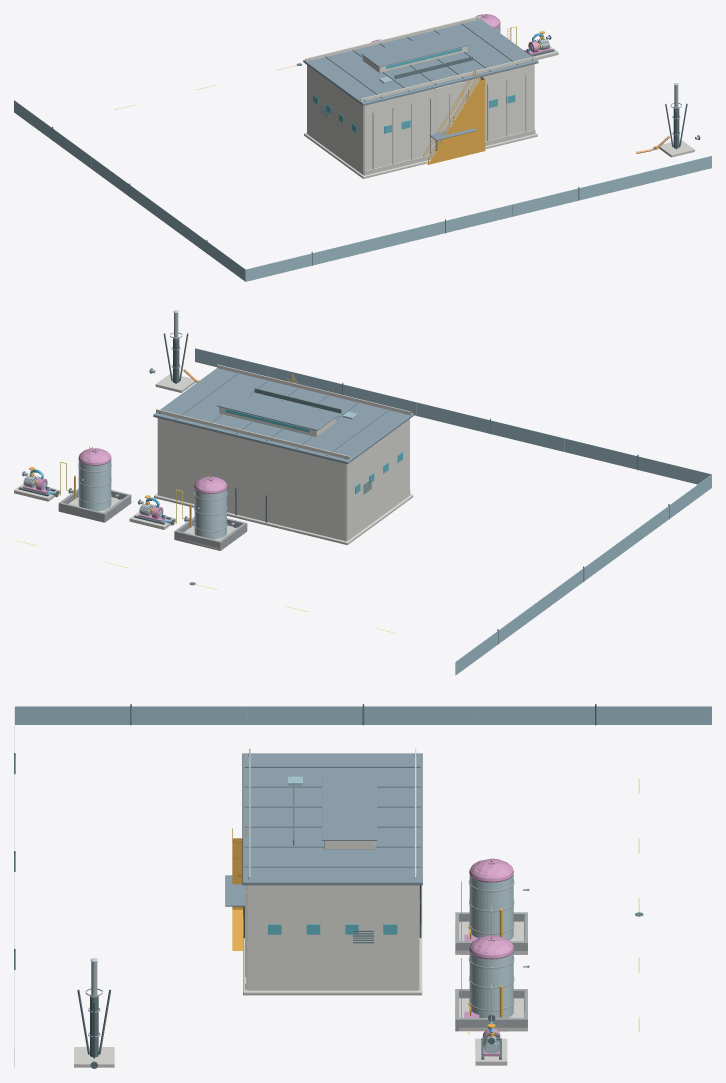
The picture shows the model from 3 angles, top to bottom: view 1: azimuth 30°, elevation 25°; view 2: azimuth 150°, elevation 25°; view 3: azimuth 270°, elevation 25°; orthographic projection. The views are drawn at different scales.
Parts seen in each view (by area): view 1: render-batch-13, render-batch-4, render-batch-5, render-batch-14, render-batch-10, render-batch-2, render-batch-3, render-batch-0; view 2: render-batch-13, render-batch-4, render-batch-5, render-batch-8, render-batch-10, render-batch-6, render-batch-9, render-batch-7, render-batch-0, render-batch-3; view 3: render-batch-4, render-batch-13, render-batch-5, render-batch-8, render-batch-10, render-batch-9, render-batch-6, render-batch-14, render-batch-0, render-batch-7, render-batch-3, render-batch-2.
Boxes of the visible parts, box(x1,y1,x2,y2) form: render-batch-13: box(305, 16, 535, 175); render-batch-4: box(303, 19, 538, 140); render-batch-5: box(14, 76, 711, 281); render-batch-14: box(423, 27, 657, 164); render-batch-10: box(304, 46, 694, 178); render-batch-2: box(313, 47, 515, 133); render-batch-3: box(52, 18, 579, 265); render-batch-0: box(485, 15, 700, 149); render-batch-13: box(156, 364, 411, 541); render-batch-4: box(153, 368, 413, 464); render-batch-5: box(195, 348, 711, 675); render-batch-8: box(23, 310, 226, 539); render-batch-10: box(14, 373, 413, 550); render-batch-6: box(58, 488, 247, 550); render-batch-9: box(22, 448, 227, 521); render-batch-7: box(23, 313, 234, 532); render-batch-0: box(18, 333, 237, 527); render-batch-3: box(73, 367, 669, 644); render-batch-4: box(225, 753, 422, 906); render-batch-13: box(246, 748, 419, 990); render-batch-5: box(14, 706, 711, 1066); render-batch-8: box(90, 874, 513, 1053); render-batch-10: box(74, 885, 527, 1067); render-batch-9: box(464, 858, 513, 1056); render-batch-6: box(455, 912, 527, 1031); render-batch-14: box(232, 828, 502, 1036); render-batch-0: box(77, 860, 529, 1068); render-batch-7: box(85, 879, 527, 1061); render-batch-3: box(14, 704, 643, 969); render-batch-2: box(268, 924, 397, 934).
Bounding box in the file's own units: 73.84 × 12.15 × 61.49.
